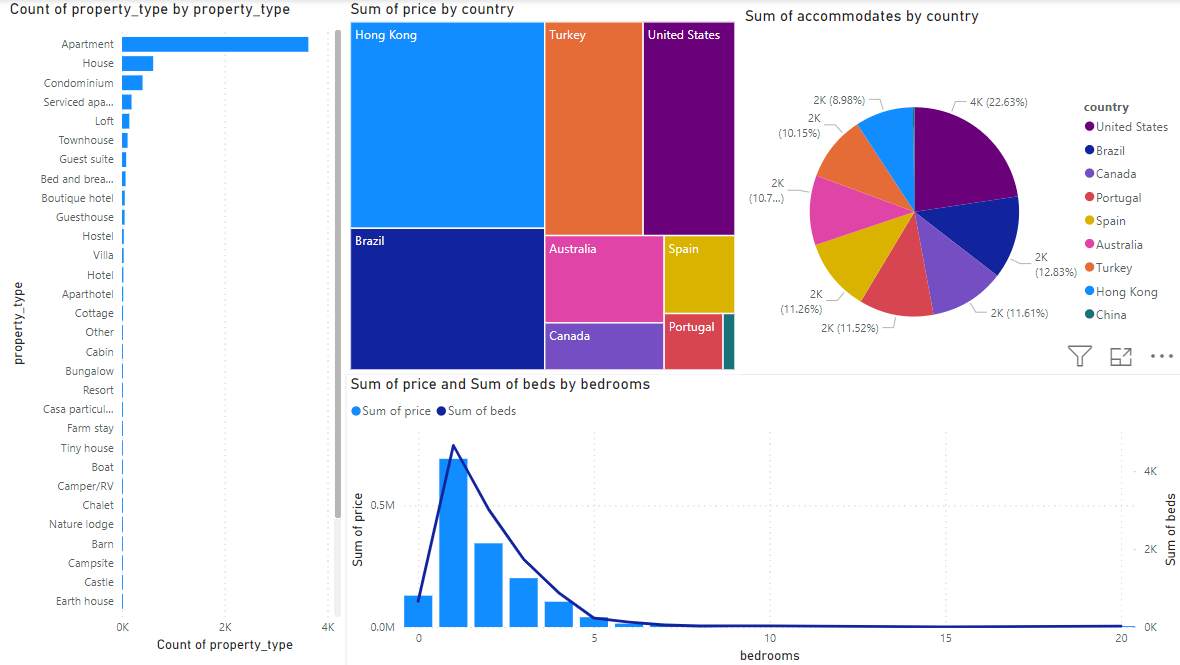

The dashboard page shown, as its layout file describes it:
{"tool":"powerbi","page":{"name":"Page 1","canvas":[1280,720],"ordinal":0},"visuals":[{"type":"barChart","fields":{"Category":["AirbnbDataset.property_type"],"Y":["CountNonNull(AirbnbDataset.property_type)"]},"box":[10.1,0,367.9,708.9],"z":0},{"type":"pieChart","fields":{"Category":["AirbnbDataset.country"],"Y":["Sum(AirbnbDataset.accommodates)"]},"box":[802.9,8.4,477.1,423.3],"z":1000},{"type":"lineStackedColumnComboChart","fields":{"Y":["Sum(AirbnbDataset.price)"],"Y2":["Sum(AirbnbDataset.beds)"],"Category":["AirbnbDataset.bedrooms"]},"box":[378,404.8,902,315.8],"z":2000},{"type":"treemap","fields":{"Group":["AirbnbDataset.country"],"Values":["Sum(AirbnbDataset.price)"]},"box":[378,0,425,405],"z":3000}]}

Visuals, with their boxes in screenshot pixels (x1, y1, x2, y2), scaled from the page's 1280x720 canvas onto the 1180x665 screenshot:
barChart - AirbnbDataset.property_type x CountNonNull(AirbnbDataset.property_type): <bbox>9, 0, 348, 655</bbox>
pieChart - AirbnbDataset.country x Sum(AirbnbDataset.accommodates): <bbox>740, 8, 1179, 399</bbox>
lineStackedColumnComboChart - Sum(AirbnbDataset.price) x Sum(AirbnbDataset.beds): <bbox>348, 374, 1179, 664</bbox>
treemap - AirbnbDataset.country x Sum(AirbnbDataset.price): <bbox>348, 0, 740, 374</bbox>
